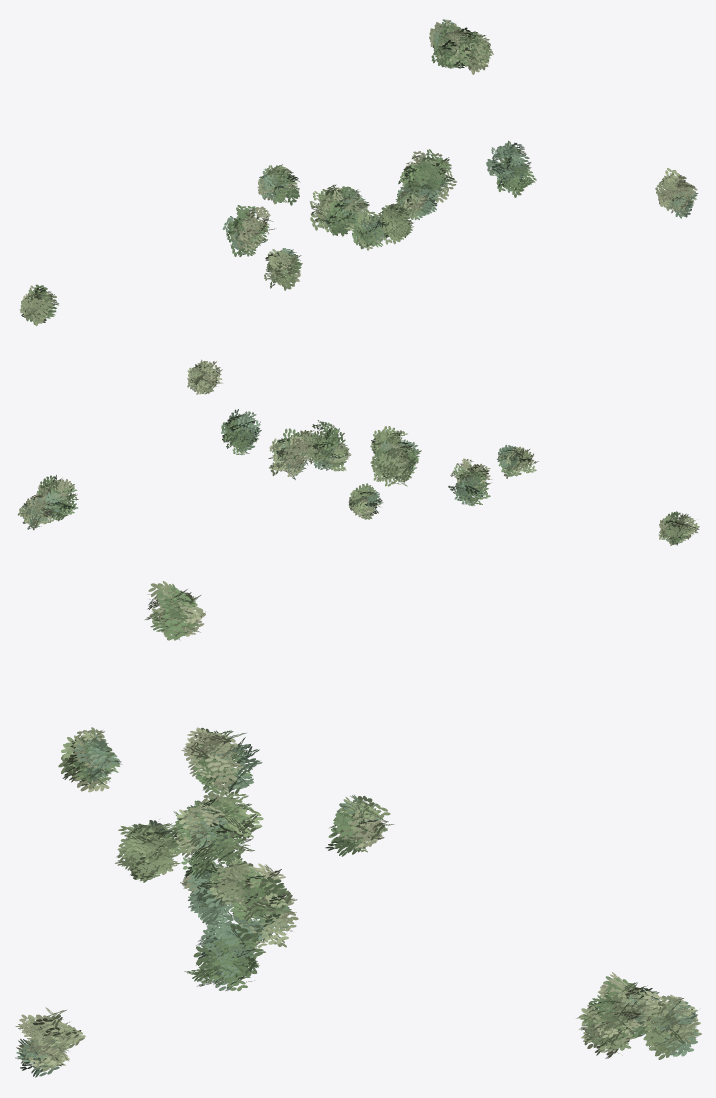
Rendered from campus-tree--2_-3-far.glb.
3 views of the same model, one above another, from view 1: azimuth 30°, elevation 25°; view 2: azimuth 150°, elevation 25°; view 3: azimuth 270°, elevation 25° (orthographic). The views are drawn at different scales.
Parts seen in each view (by area): view 1: Campus leaf canopy; view 2: Campus leaf canopy; view 3: Campus leaf canopy.
Boxes of the visible parts, box(x1,y1,x2,y2) form: Campus leaf canopy: box(19, 19, 698, 326); Campus leaf canopy: box(17, 359, 699, 545); Campus leaf canopy: box(15, 581, 701, 1077).
Size of the model in its own units: 82.79 by 7.95 by 52.38.
Materials: 1 (1 with a texture image).
